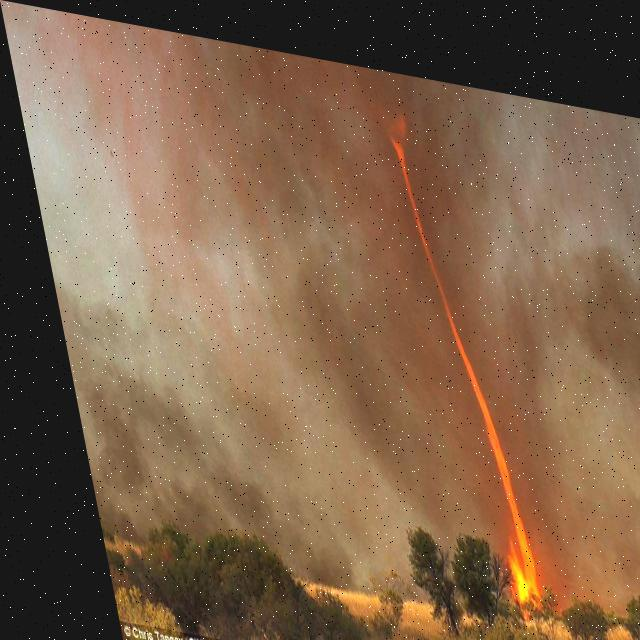Fire: (346, 66, 565, 635)
